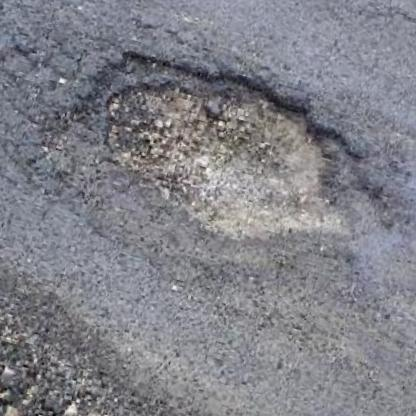pothole: (72, 42, 387, 245)
